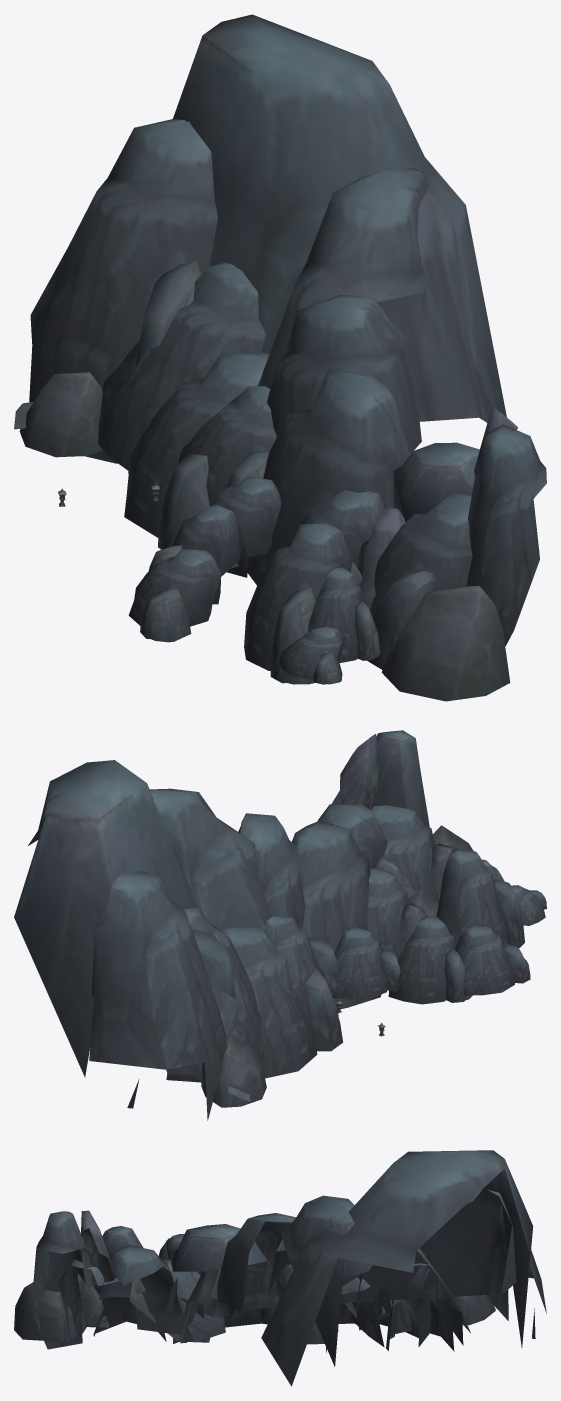
The model's file is Area_07_1.fbx.
The picture shows the model from 3 angles, top to bottom: view 1: azimuth 30°, elevation 25°; view 2: azimuth 150°, elevation 25°; view 3: azimuth 270°, elevation 25°; orthographic projection. The views are drawn at different scales.
Visible parts, largest first — view 1: Area_07_1; view 2: Area_07_1; view 3: Area_07_1.
Boxes of the visible parts, x1,y1,x2,y2 form: Area_07_1: (14, 14, 546, 701); Area_07_1: (14, 730, 546, 1120); Area_07_1: (14, 1150, 546, 1386).
Size of the model in its own units: 6844 by 5373 by 10742.
